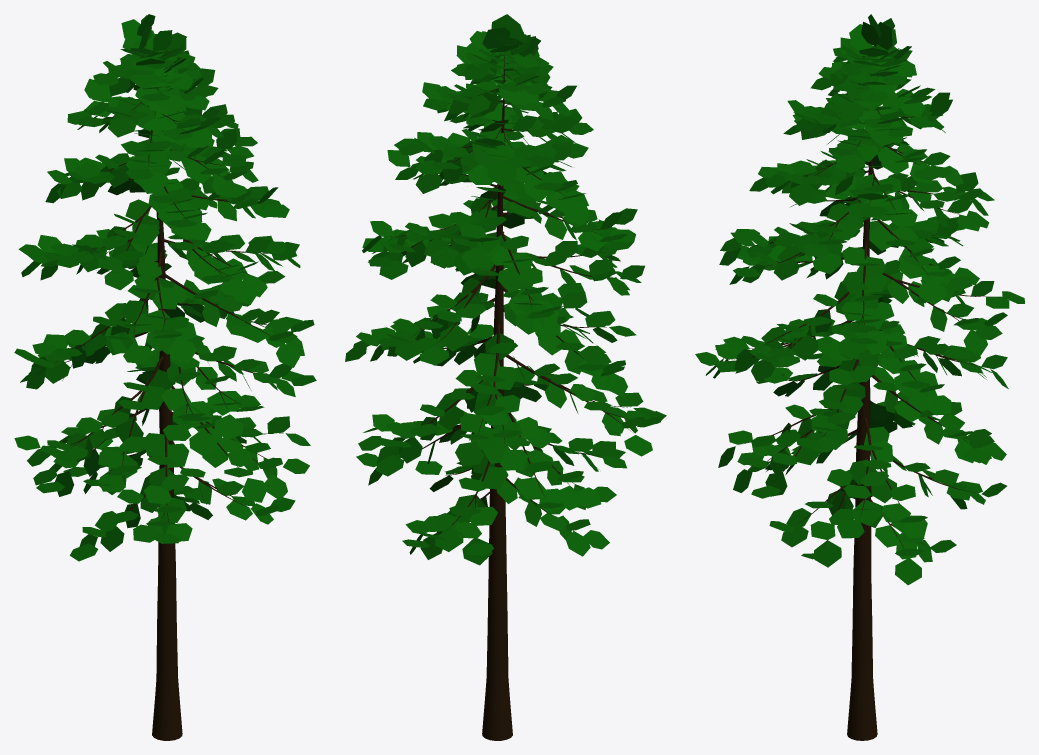
File: PineTree.fbx
The picture shows the model from 3 angles, left to right: view 1: azimuth 30°, elevation 25°; view 2: azimuth 150°, elevation 25°; view 3: azimuth 270°, elevation 25°; orthographic projection.
Parts seen in each view (by area): view 1: PineLeaves_LOD0, Pine_LOD0; view 2: PineLeaves_LOD0, Pine_LOD0; view 3: PineLeaves_LOD0, Pine_LOD0.
Boxes of the visible parts, box(x1,y1,x2,y2) form: PineLeaves_LOD0: box(14, 14, 316, 561); Pine_LOD0: box(49, 47, 283, 740); PineLeaves_LOD0: box(345, 14, 666, 565); Pine_LOD0: box(386, 52, 630, 740); PineLeaves_LOD0: box(695, 14, 1024, 585); Pine_LOD0: box(727, 56, 1000, 740).
Size of what is drawn, in the model's own units: 1949 by 4787 by 2006.
